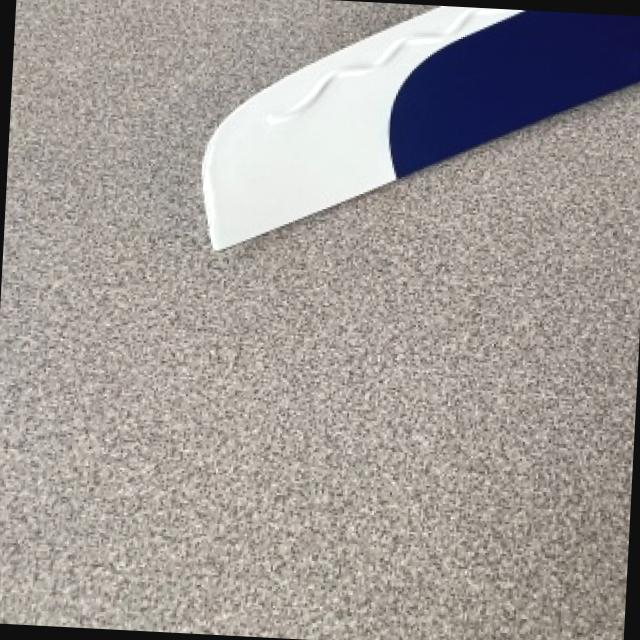healthy: (206, 6, 640, 249)
